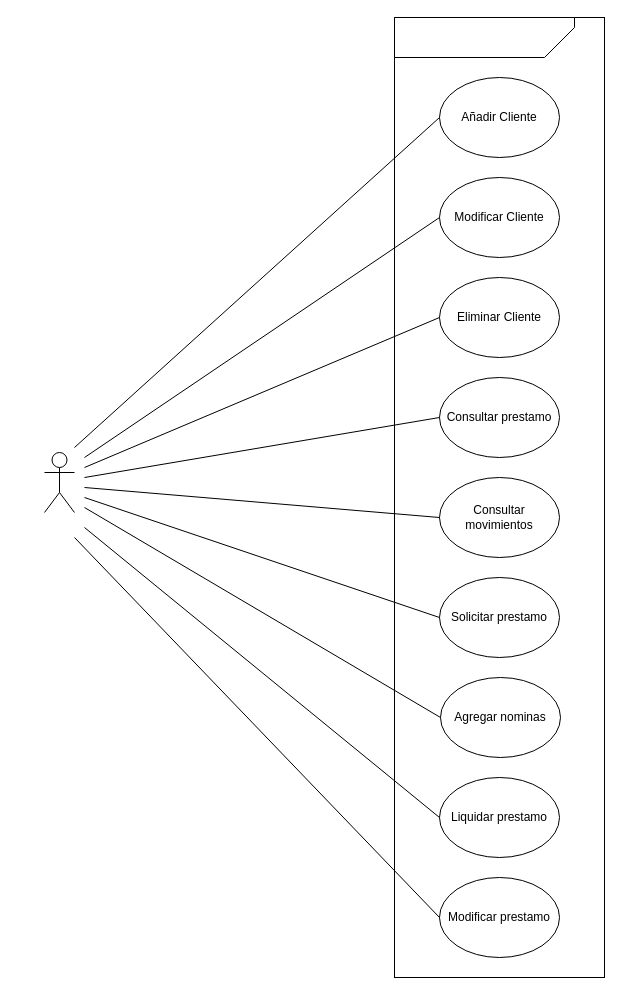
This 622x995 diagram has some shape labels left out. The shapes that lost their labels are listed below. From the top down, each one's centre as x and y in pixels, then its label:
point 484,37: Aplicación BetaBank
point 59,482: Administrador/a
